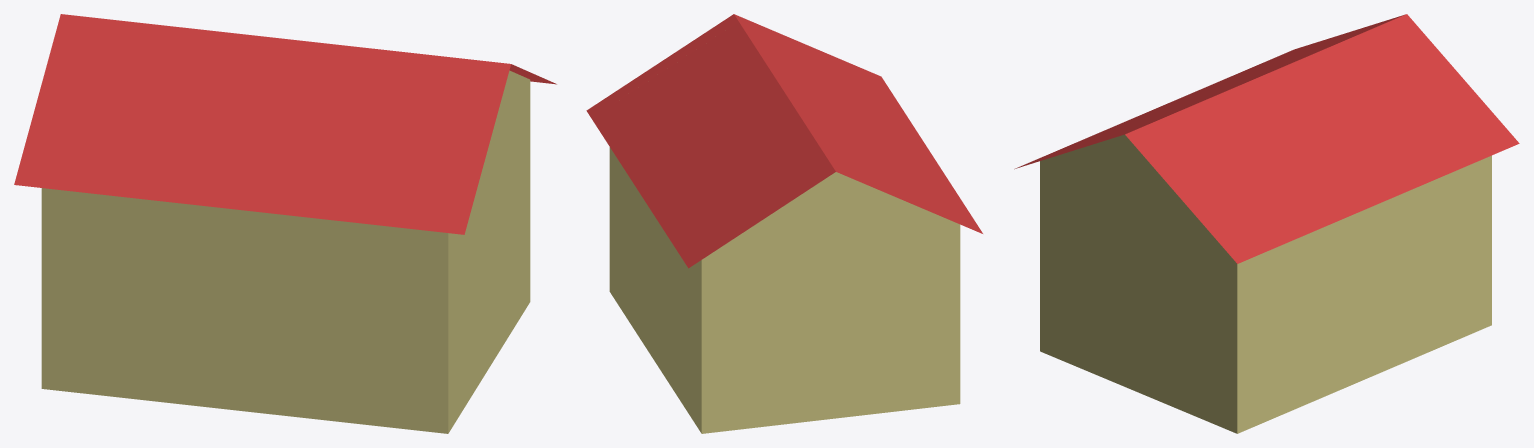
3 views of the same model, side by side, from view 1: azimuth 30°, elevation 25°; view 2: azimuth 150°, elevation 25°; view 3: azimuth 270°, elevation 25° (orthographic). The views are drawn at different scales.
Size of the model in its own units: 19.46 by 19.44 by 11.16.
